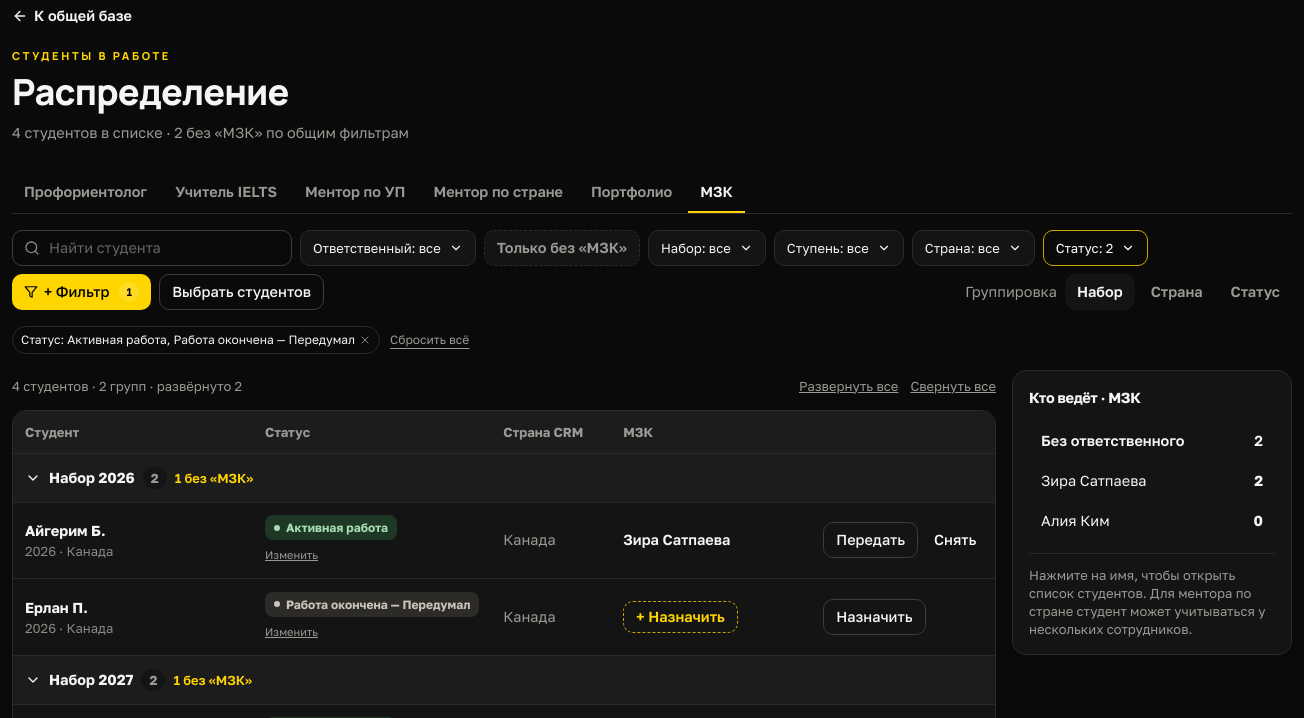
Test: список распределения › раскрывает и сворачивает каждый год набора
Expected: the link "Ерлан П." is shown, top-left (25, 599), bottom-right (88, 616)
Click the button "Набор 2026 2 1 без «МЗК»": {"x": 139, "y": 478} top-left (25, 462), bottom-right (253, 494)
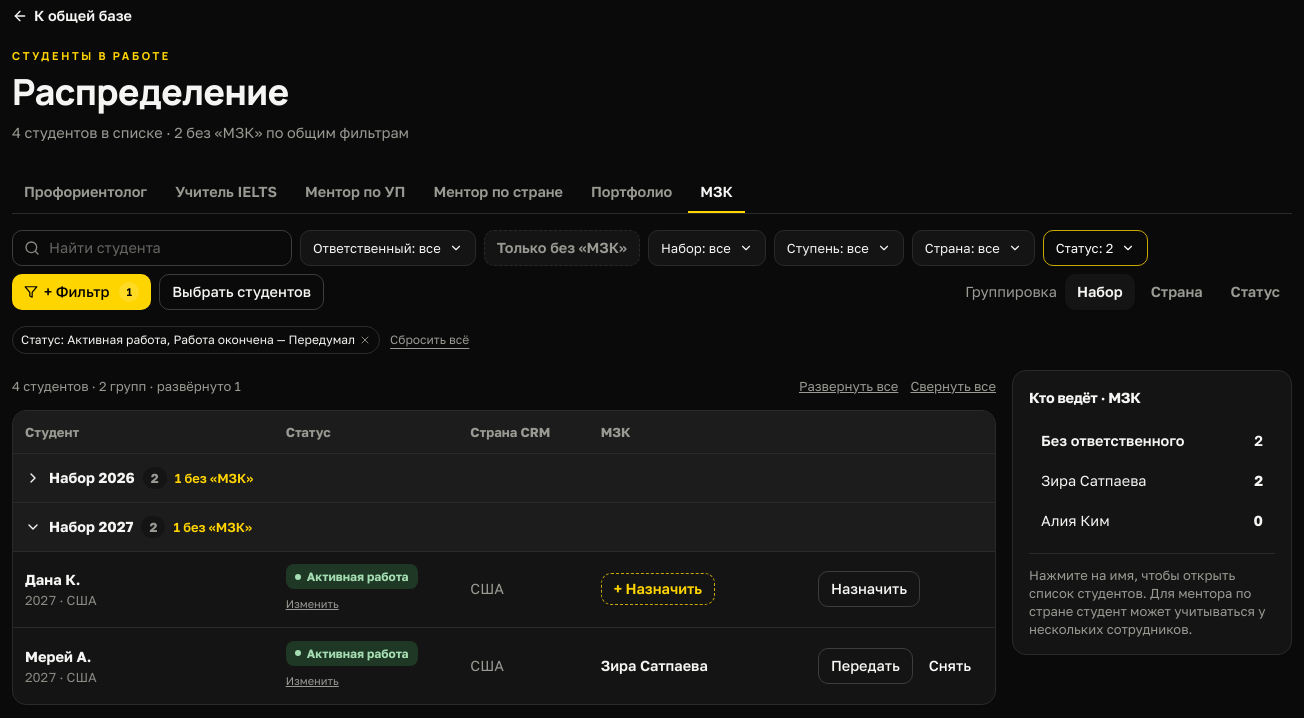
Click the button "Набор 2026 2 1 без «МЗК»": {"x": 139, "y": 478} top-left (25, 462), bottom-right (253, 494)
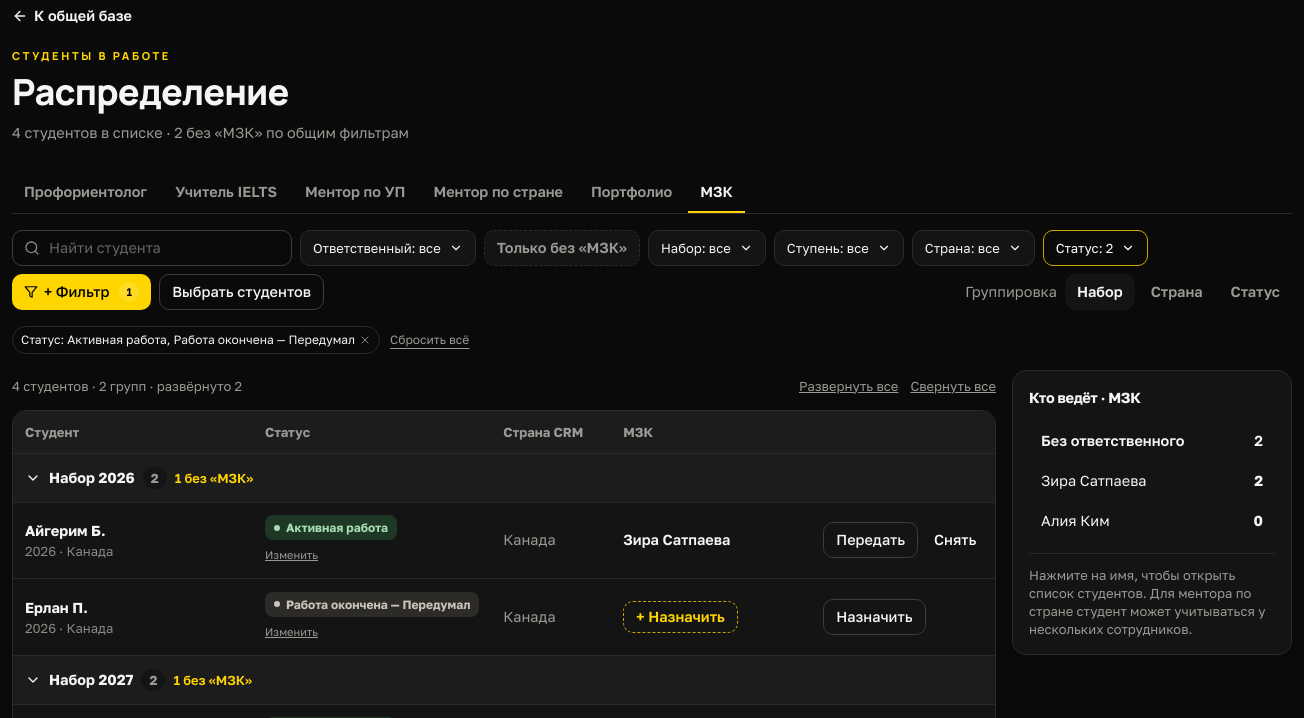
Expected: the link "Ерлан П." is shown, top-left (25, 599), bottom-right (88, 616)
Click the button "Набор 2027 2 1 без «МЗК»": {"x": 138, "y": 680} top-left (25, 664), bottom-right (252, 696)
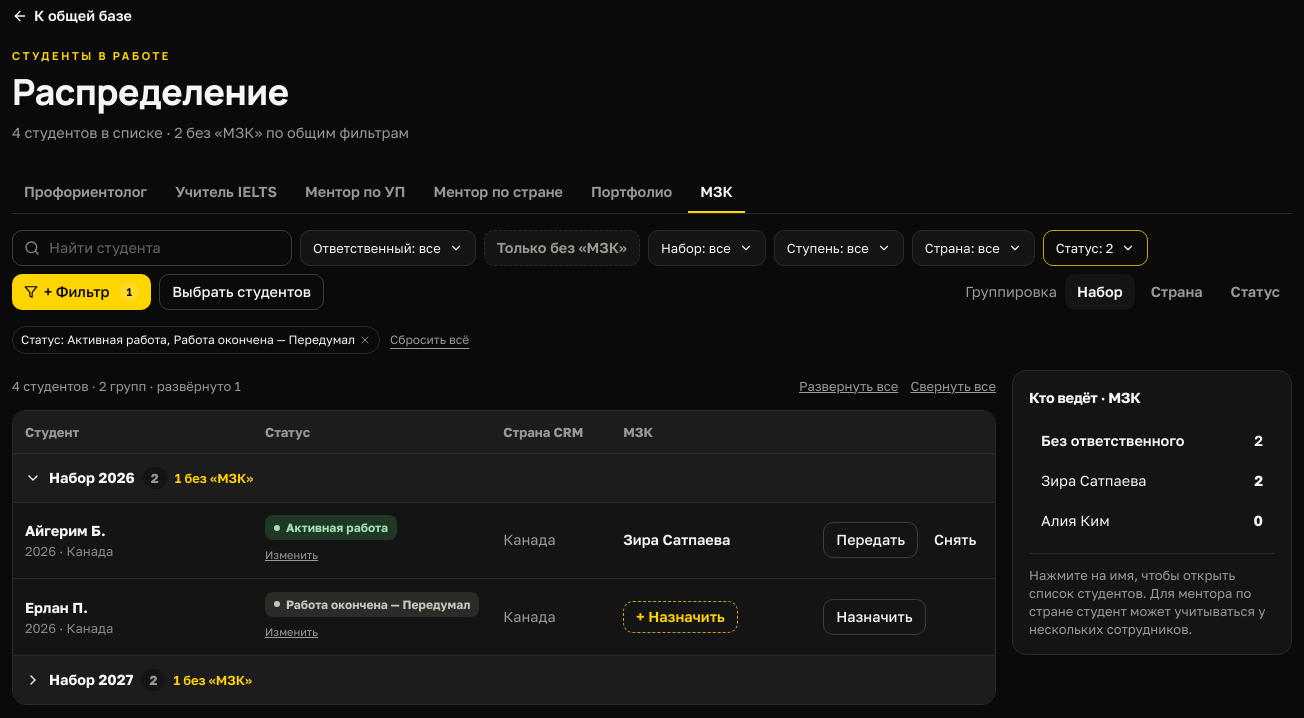
Click the button "Набор 2027 2 1 без «МЗК»": {"x": 138, "y": 680} top-left (25, 664), bottom-right (252, 696)
(page scrolled)
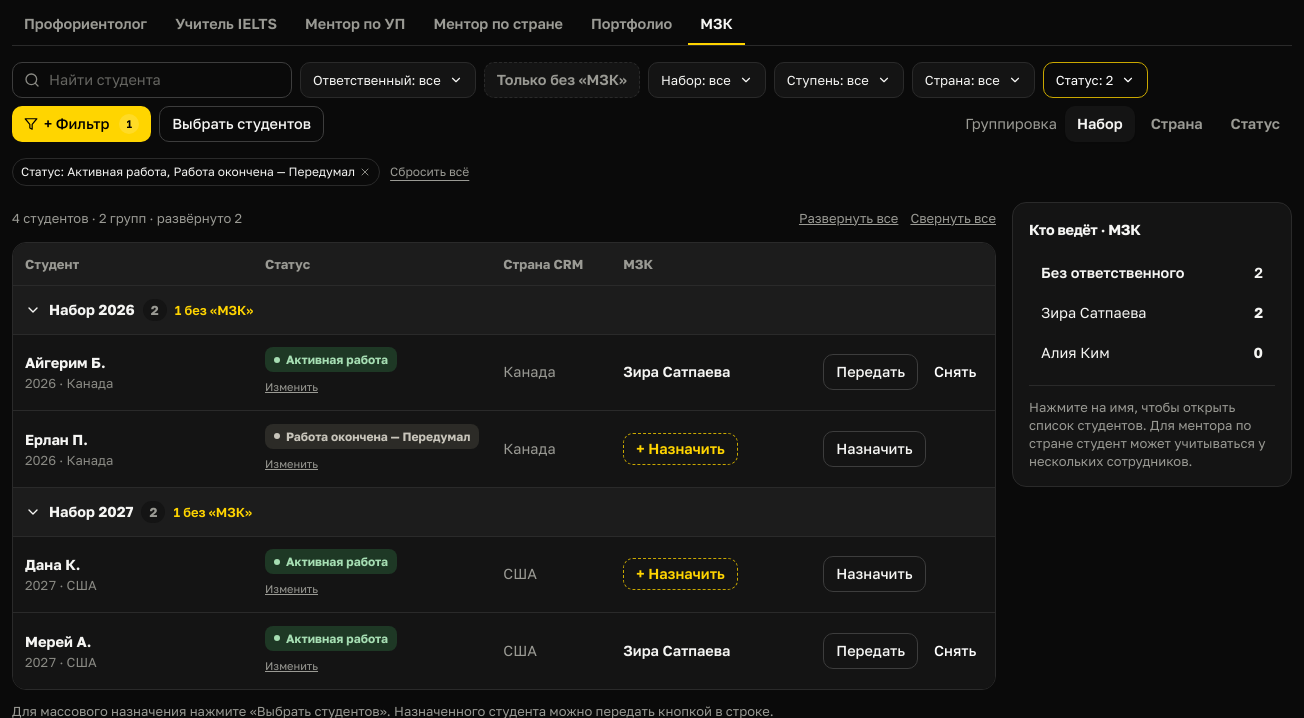
Expected: the link "Дана К." is shown, top-left (25, 556), bottom-right (80, 573)
